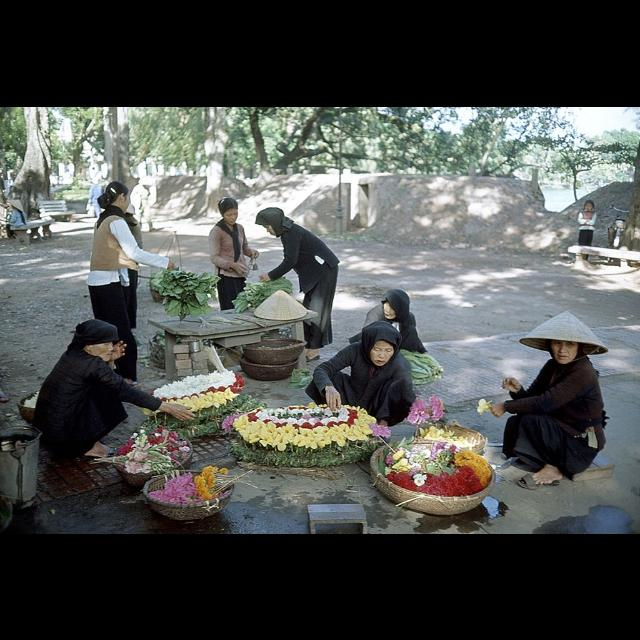Flower: (222, 402, 392, 448), (382, 422, 481, 496), (150, 370, 246, 412), (118, 430, 190, 474), (148, 465, 228, 503), (407, 397, 429, 425), (430, 392, 444, 420), (478, 396, 490, 414), (414, 474, 426, 486)
